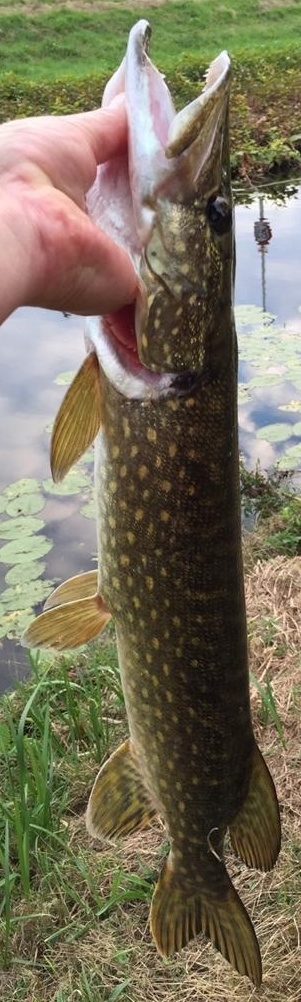Esox lucius: (20, 20, 281, 987)
